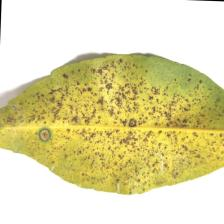canker: (72, 91, 183, 178)
